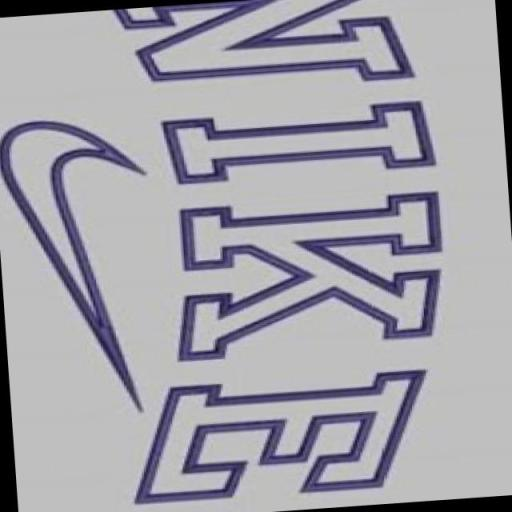Nike: (0, 98, 171, 430)
